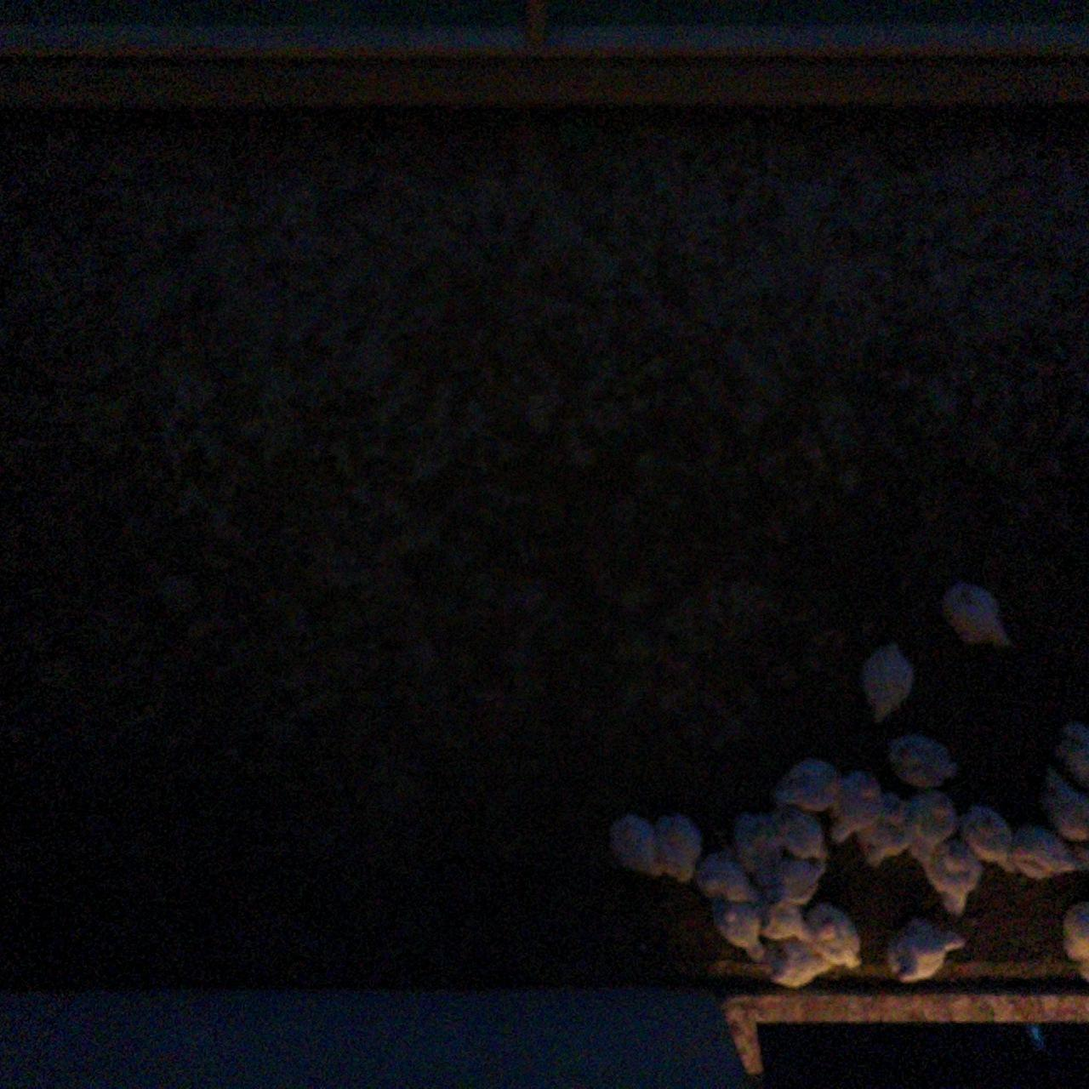chicken: (881, 909, 971, 983), (937, 572, 1012, 657), (860, 635, 920, 718), (602, 809, 665, 888), (925, 834, 986, 914), (886, 727, 959, 792), (824, 770, 889, 840), (961, 800, 1020, 875), (856, 796, 918, 867), (768, 752, 845, 809), (710, 899, 772, 967), (753, 857, 831, 909), (654, 810, 705, 889), (907, 788, 960, 864), (694, 845, 754, 908), (1012, 820, 1076, 879), (809, 904, 861, 972), (768, 937, 835, 987), (1039, 774, 1089, 835), (775, 814, 835, 861), (734, 805, 780, 864), (1052, 710, 1089, 780), (1058, 897, 1089, 979), (759, 899, 810, 941)
